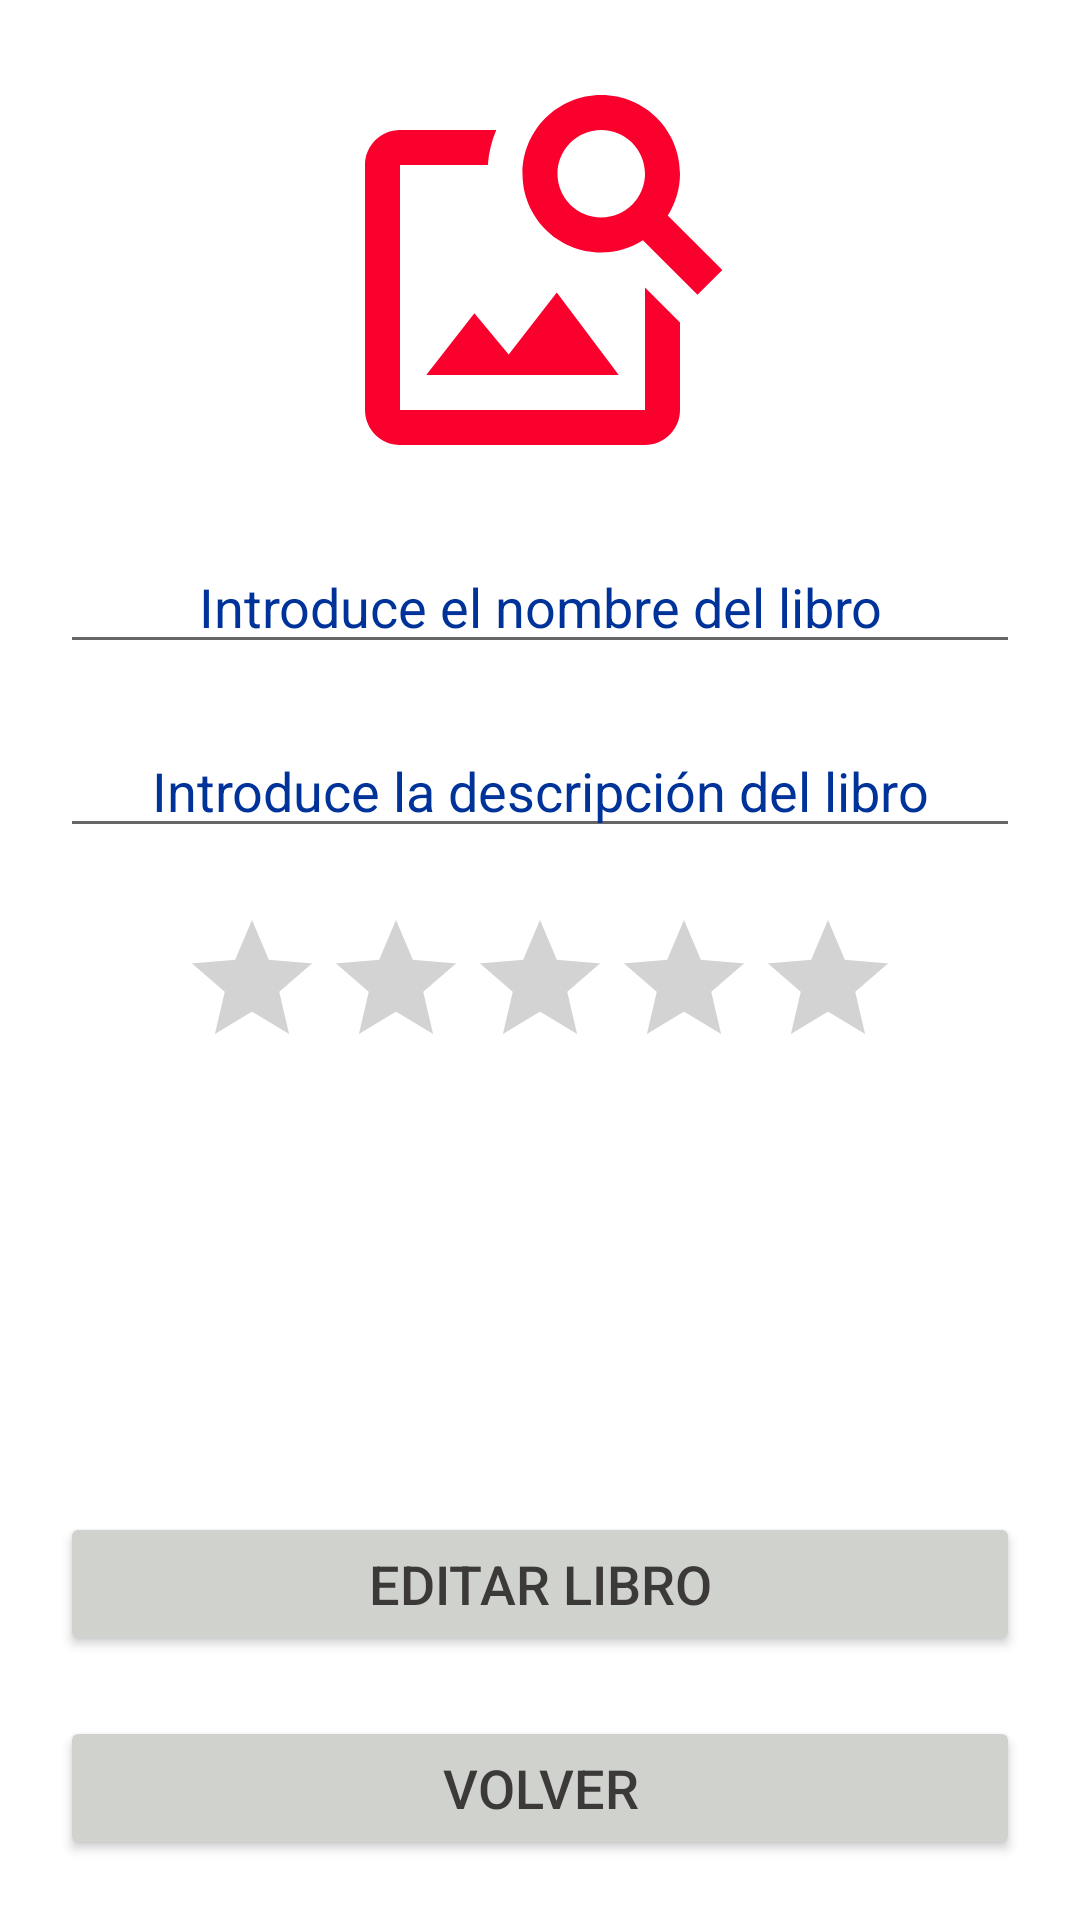

Icon click points for this 1080x1920 phone screenshot, format point (x, y):
search: point (543, 270)
